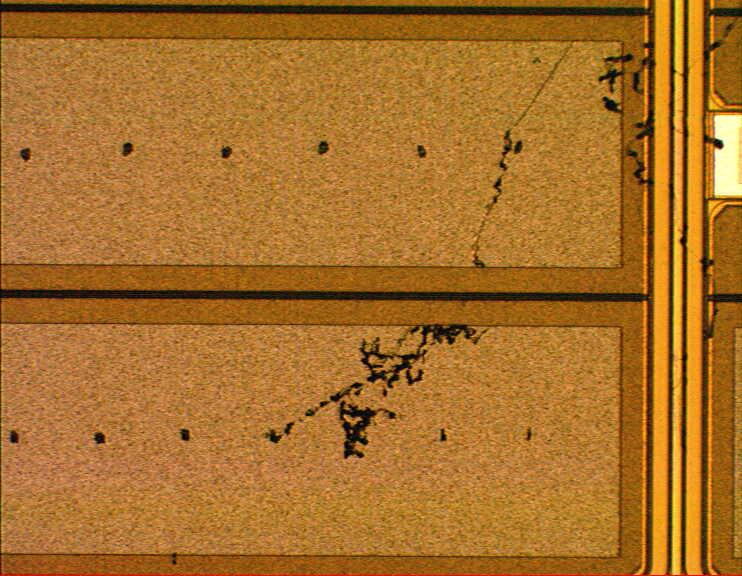SCRATCH: (262, 5, 742, 465)
